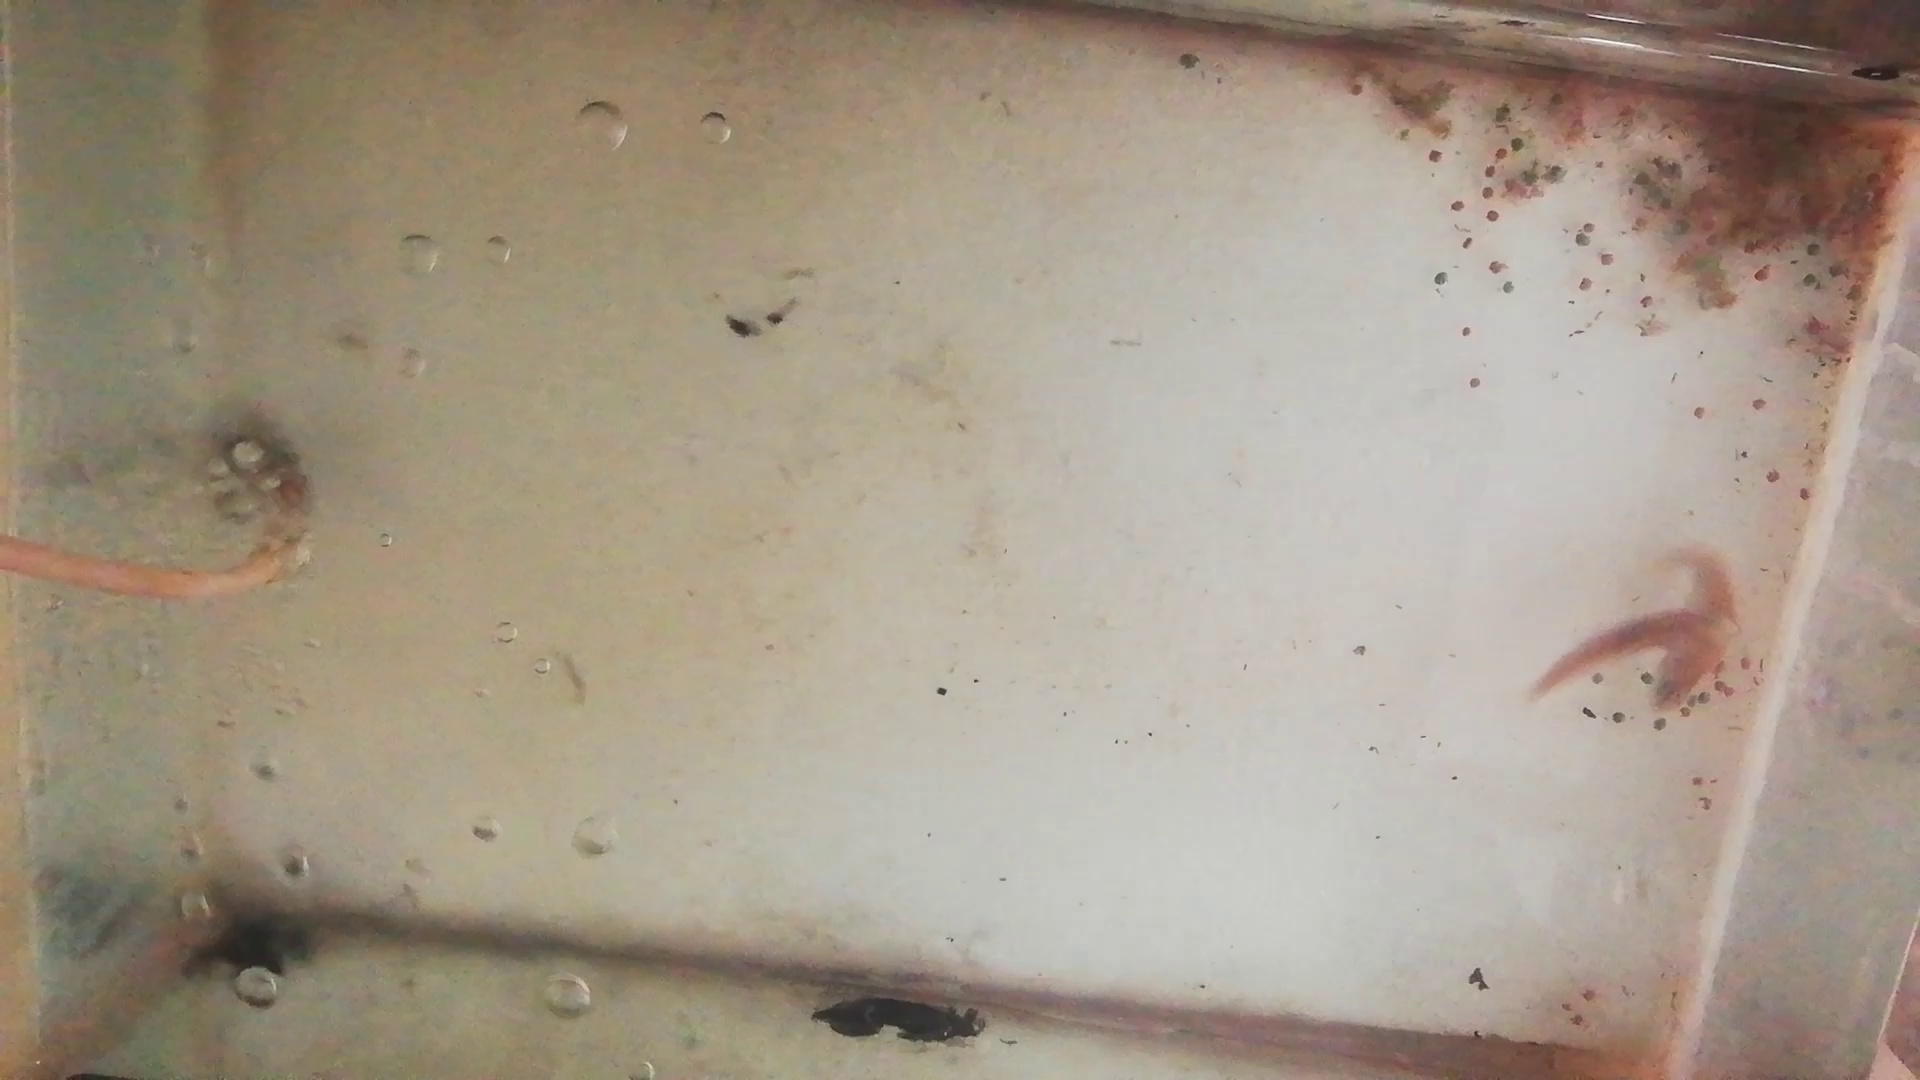fish: (1536, 604, 1742, 698), (1648, 541, 1741, 723)
